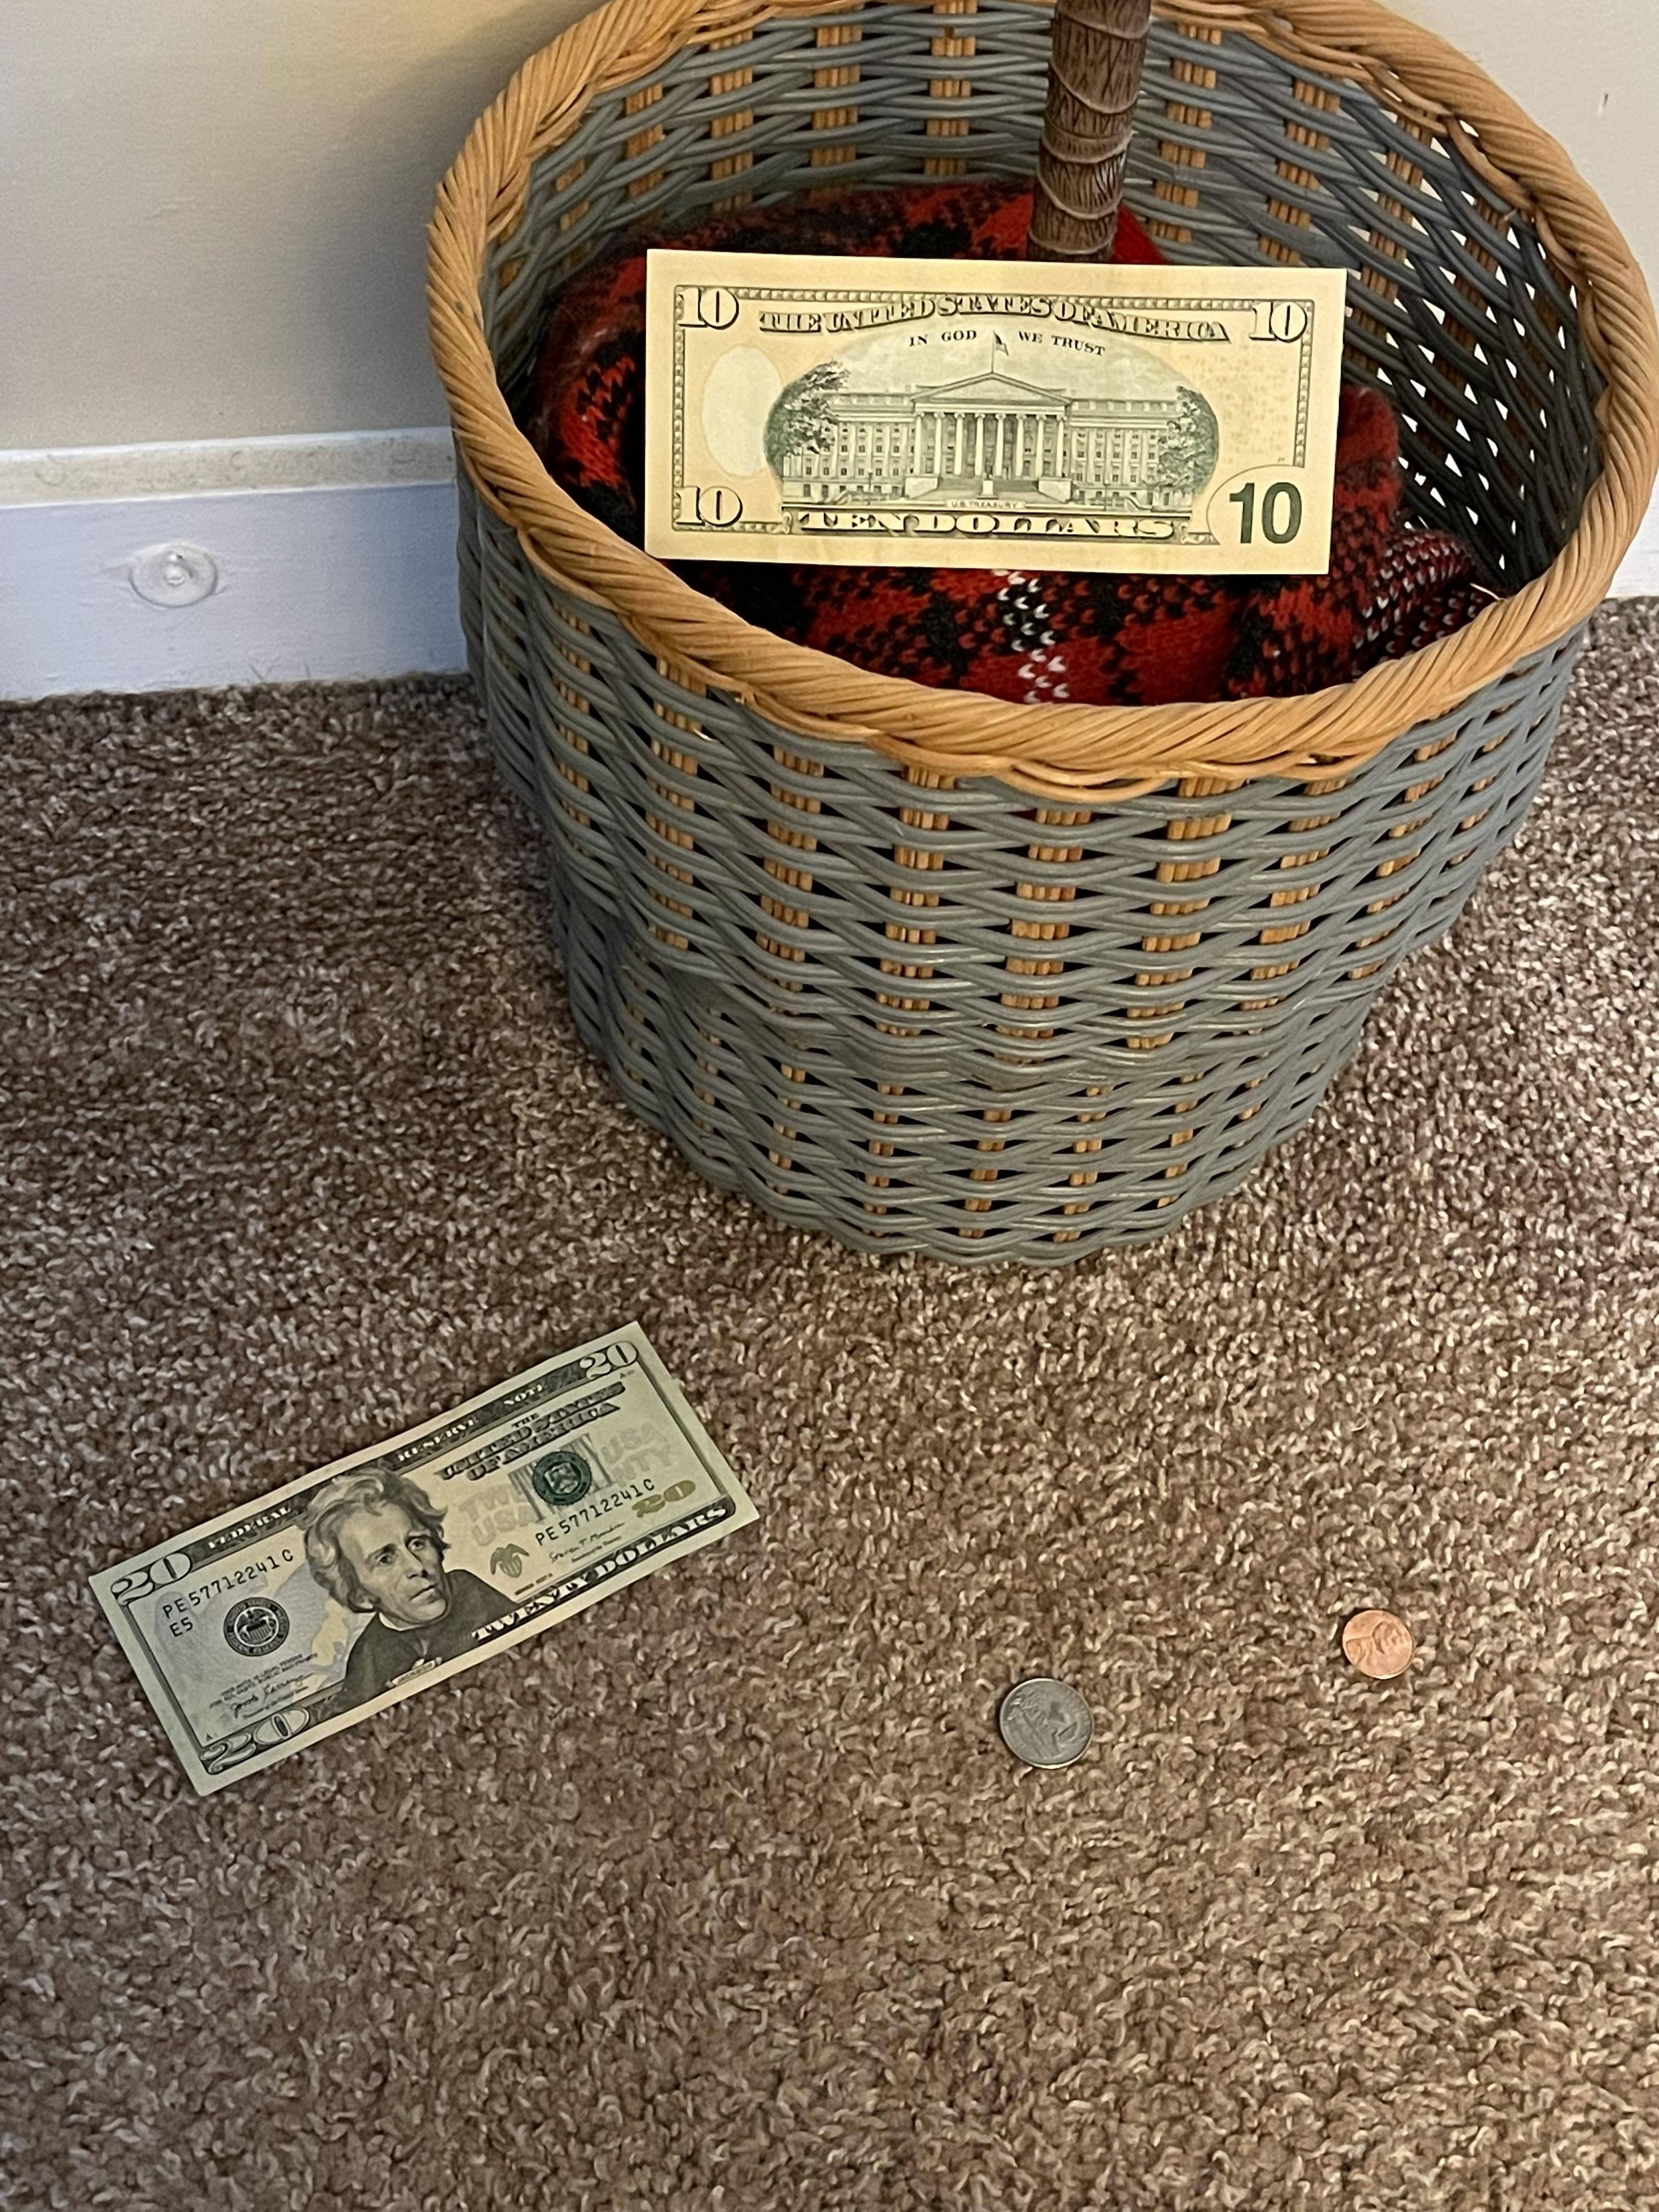Penny: (1340, 1609, 1415, 1679)
Quarter: (997, 1676, 1096, 1770)
TenBill: (643, 247, 1349, 577)
TwentyBill: (85, 1318, 763, 1799)
